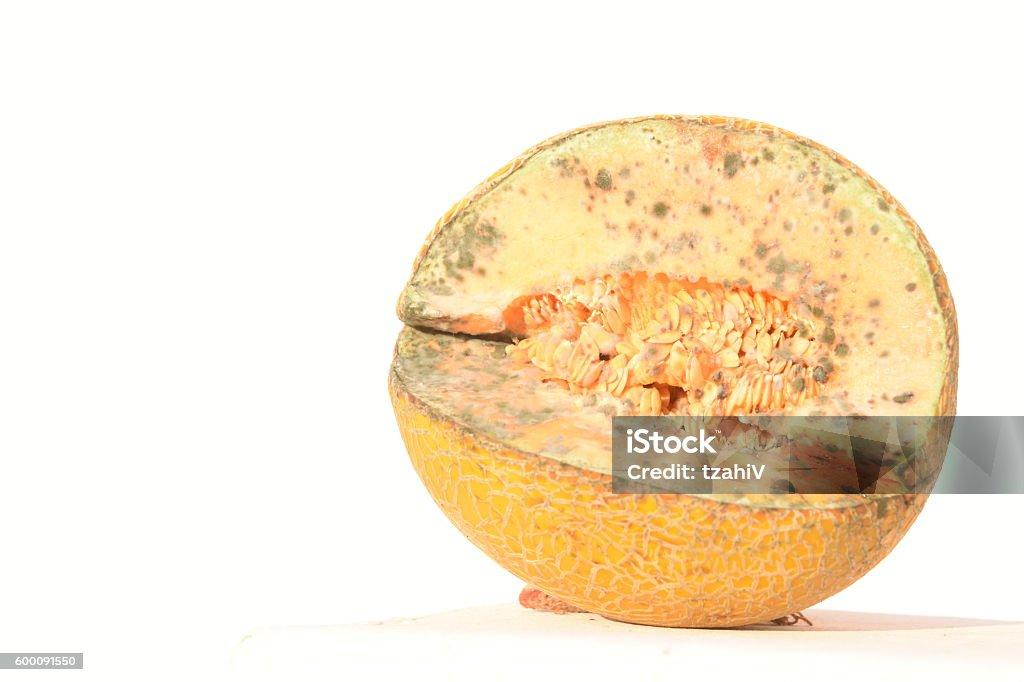Melon Rotten: (389, 115, 956, 626)
